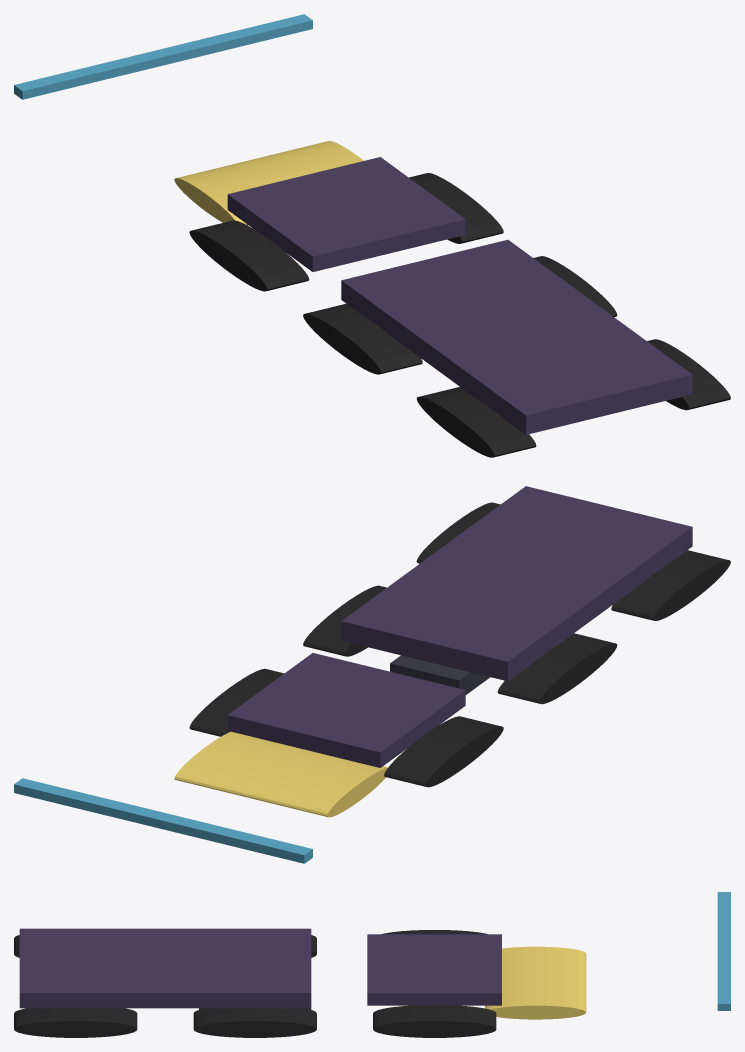
Rendered from CH_ProbabilistHarvester_LOD0.glb.
3 renders of one model, top to bottom at view 1: azimuth 30°, elevation 25°; view 2: azimuth 150°, elevation 25°; view 3: azimuth 270°, elevation 25°, orthographic. The views are drawn at different scales.
Parts seen in each view (by area): view 1: Cube.003, Cube.001, Cylinder.006, Cube.002, Cylinder.002, Cylinder, Cylinder.001, Cylinder.005, Cylinder.003, Cylinder.004; view 2: Cube.003, Cube.001, Cylinder.006, Cube.002, Cylinder.002, Cylinder.001, Cylinder, Cylinder.005, Cylinder.004, Cube, Cylinder.003; view 3: Cube.003, Cube.001, Cylinder.006, Cylinder.005, Cylinder.003, Cylinder.004, Cube.002, Cylinder.002.
Boxes of the visible parts, box(x1,y1,x2,y2) form: Cube.003: box(341, 239, 692, 434); Cube.001: box(227, 157, 465, 271); Cylinder.006: box(174, 141, 363, 225); Cube.002: box(14, 14, 312, 99); Cylinder.002: box(189, 220, 309, 291); Cylinder: box(416, 387, 536, 457); Cylinder.001: box(303, 303, 422, 374); Cylinder.005: box(409, 173, 503, 243); Cylinder.003: box(647, 339, 730, 410); Cylinder.004: box(533, 256, 617, 317); Cube.003: box(341, 486, 692, 681); Cube.001: box(227, 653, 465, 767); Cylinder.006: box(174, 731, 387, 817); Cube.002: box(14, 778, 312, 863); Cylinder.002: box(384, 716, 503, 787); Cylinder.001: box(497, 633, 617, 704); Cylinder: box(611, 550, 730, 620); Cylinder.005: box(189, 668, 284, 736); Cylinder.004: box(303, 585, 386, 656); Cube: box(390, 655, 490, 694); Cylinder.003: box(416, 502, 500, 563); Cube.003: box(19, 928, 311, 1008); Cube.001: box(367, 934, 501, 1005); Cylinder.006: box(485, 946, 586, 1019); Cylinder.005: box(373, 1005, 496, 1037); Cylinder.003: box(14, 1007, 137, 1037); Cylinder.004: box(193, 1007, 316, 1037); Cube.002: box(717, 892, 730, 1010); Cylinder.002: box(381, 930, 487, 934).
Size of what is drawn, in the model's own units: 10.87 by 2.36 by 29.39.
